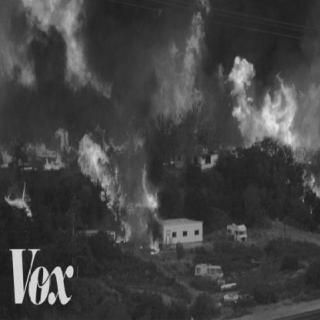Smoke: (103, 10, 173, 90)
